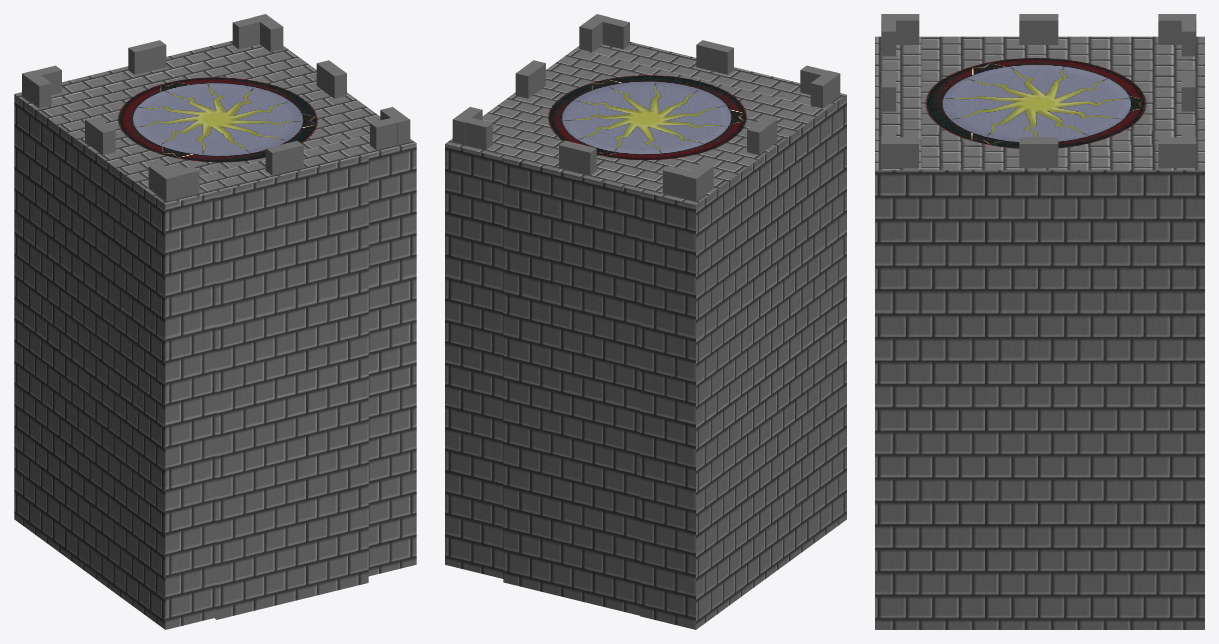
Rendered from castleMapRedone.fbx.
3 views of the same model, side by side, from view 1: azimuth 30°, elevation 25°; view 2: azimuth 150°, elevation 25°; view 3: azimuth 270°, elevation 25° (orthographic). The views are drawn at different scales.
Parts seen in each view (by area): view 1: Cube.007, Cube.018, Cube.002, Cube.004, Cube.003, Cube.006, Cube.005, Cube.010, Cube.009, Cube.008, Cube.017, Cube.016; view 2: Cube.007, Cube.004, Cube.002, Cube.018, Cube.003, Cube.006, Cube.010, Cube.005, Cube.017, Cube.009, Cube.008, Cube.016; view 3: Cube.002, Cube.007, Cube.018, Cube.006, Cube.003, Cube.004, Cube.005, Cube.010, Cube.017, Cube.009, Cube.008, Cube.016 (+3 smaller).
Boxes of the visible parts, <box> form: Cube.007: <box>14,65,216,629</box>; Cube.018: <box>197,141,368,619</box>; Cube.002: <box>207,14,416,576</box>; Cube.004: <box>65,40,234,98</box>; Cube.003: <box>213,57,350,142</box>; Cube.006: <box>80,95,213,170</box>; Cube.005: <box>113,66,223,105</box>; Cube.010: <box>207,78,304,140</box>; Cube.009: <box>152,87,230,118</box>; Cube.008: <box>125,104,222,153</box>; Cube.017: <box>205,132,317,165</box>; Cube.016: <box>211,126,273,151</box>; Cube.007: <box>640,65,846,629</box>; Cube.004: <box>503,140,662,615</box>; Cube.002: <box>445,14,643,578</box>; Cube.018: <box>626,40,795,101</box>; Cube.003: <box>510,59,642,146</box>; Cube.006: <box>650,97,776,173</box>; Cube.010: <box>559,80,660,137</box>; Cube.005: <box>541,136,664,170</box>; Cube.017: <box>629,70,740,105</box>; Cube.009: <box>587,121,666,149</box>; Cube.008: <box>648,100,722,158</box>; Cube.016: <box>636,87,709,107</box>; Cube.002: <box>875,126,1204,629</box>; Cube.007: <box>875,14,1204,66</box>; Cube.018: <box>875,62,943,144</box>; Cube.006: <box>930,57,1157,80</box>; Cube.003: <box>919,126,1161,151</box>; Cube.004: <box>1148,56,1204,140</box>; Cube.005: <box>1107,74,1171,130</box>; Cube.010: <box>951,114,1124,131</box>; Cube.017: <box>920,77,982,131</box>; Cube.009: <box>1059,82,1127,117</box>; Cube.008: <box>961,73,1116,90</box>; Cube.016: <box>961,87,996,120</box>.
Bounding box in the file's own units: 365 × 624 × 380.
1 material, 1 textured.
